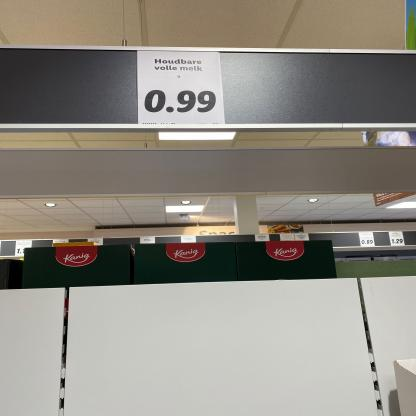prtg: (138, 51, 226, 125)
